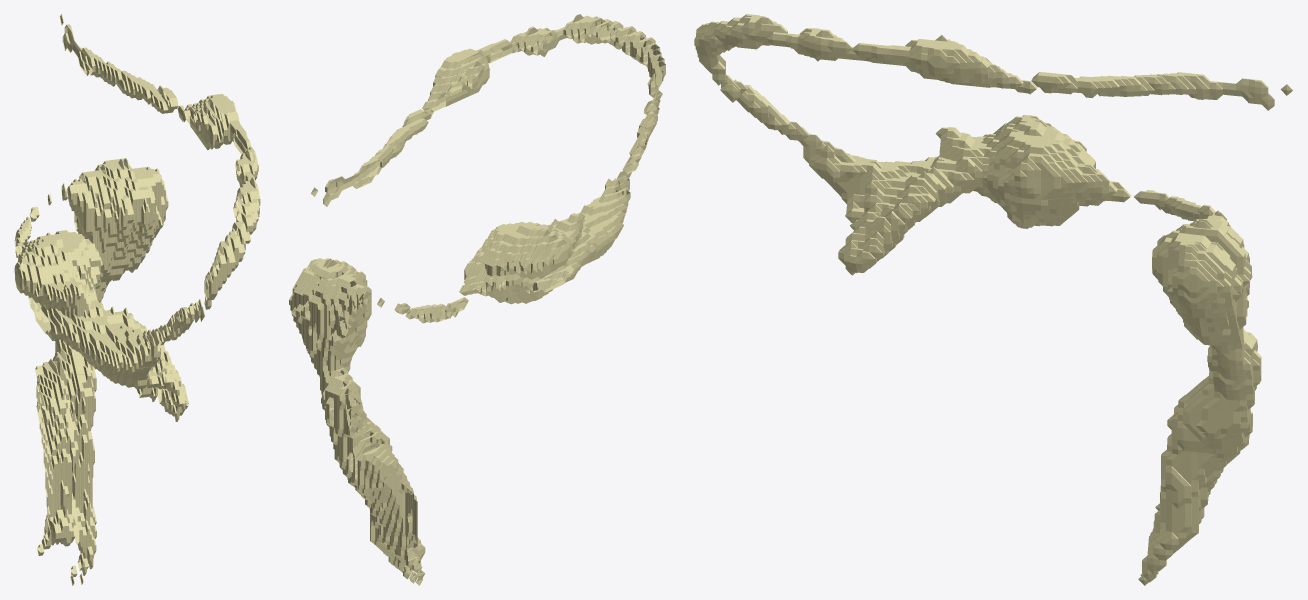
The model's file is SVV_OLQDR.gltf.
The picture shows the model from 3 angles, left to right: view 1: azimuth 30°, elevation 25°; view 2: azimuth 150°, elevation 25°; view 3: azimuth 270°, elevation 25°; orthographic projection. The views are drawn at different scales.
Parts seen in each view (by area): view 1: OLQDR; view 2: OLQDR; view 3: OLQDR.
Boxes of the visible parts, <box> form: OLQDR: <box>14,14,260,585</box>; OLQDR: <box>289,14,665,585</box>; OLQDR: <box>694,14,1293,585</box>.
Bounding box in the file's own units: 27501 × 61998 × 59847.
